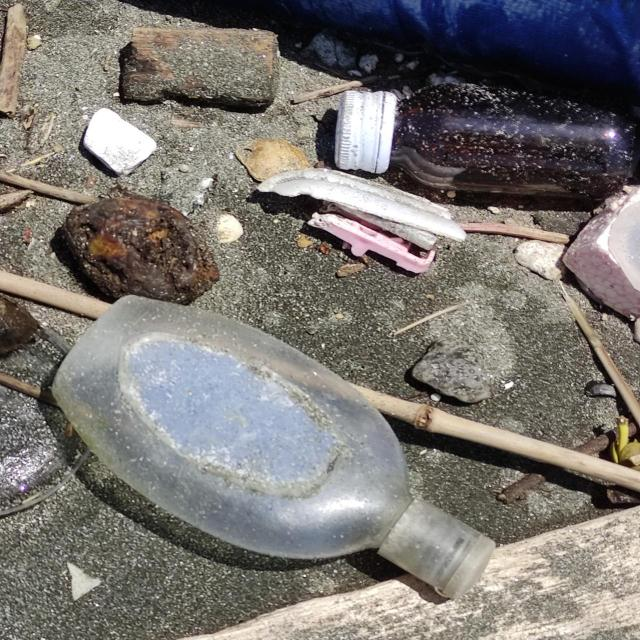glass_waste: (334, 80, 637, 200)
plastic_waste: (53, 295, 499, 601)
styrofoam_waste: (85, 108, 161, 176)
